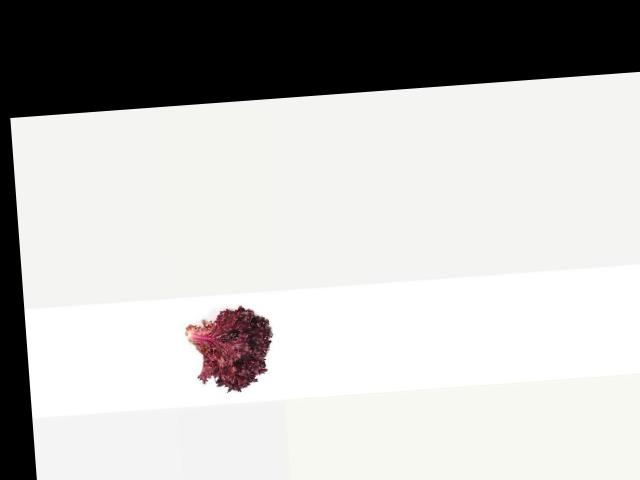lettuce: (175, 307, 281, 398)
